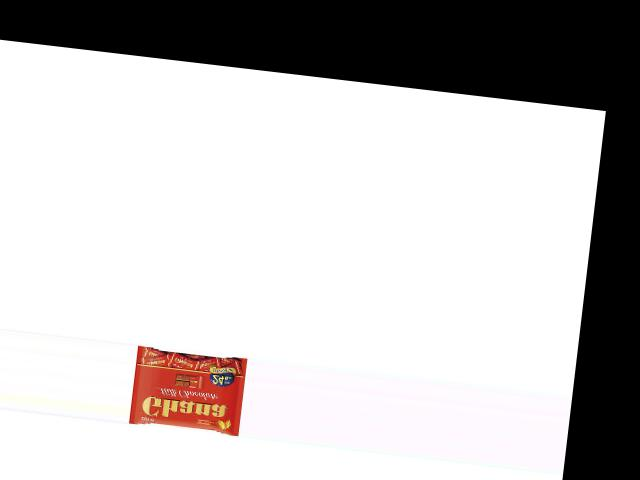chocolate: (131, 343, 249, 434)
